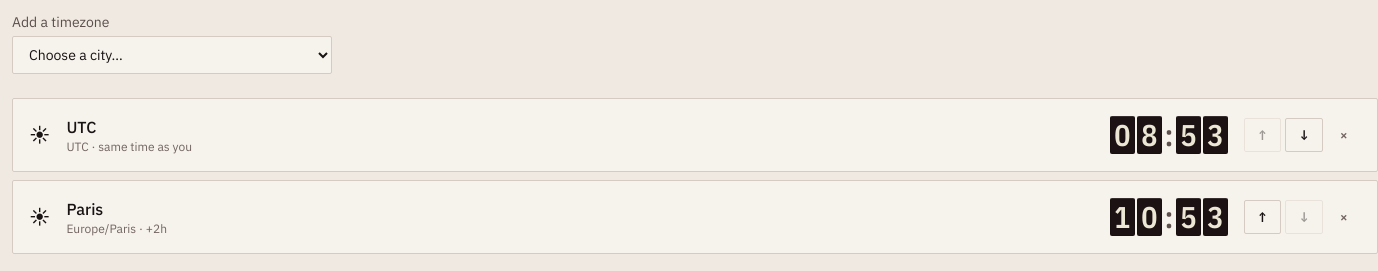
Test: WorldClockView › removes a zone
Click the button named "Remove Paris": (1344, 217) x1=1327 y1=200 x2=1361 y2=234
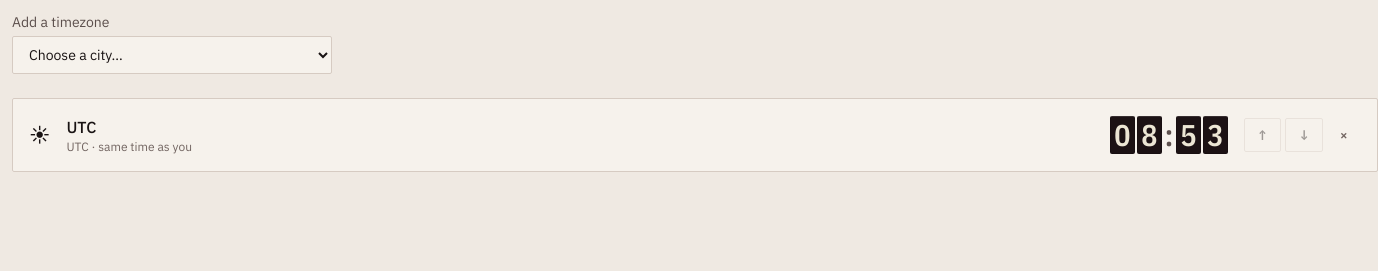
Result: the number of list items is 1 at x1=12 y1=98 x2=1377 y2=172
